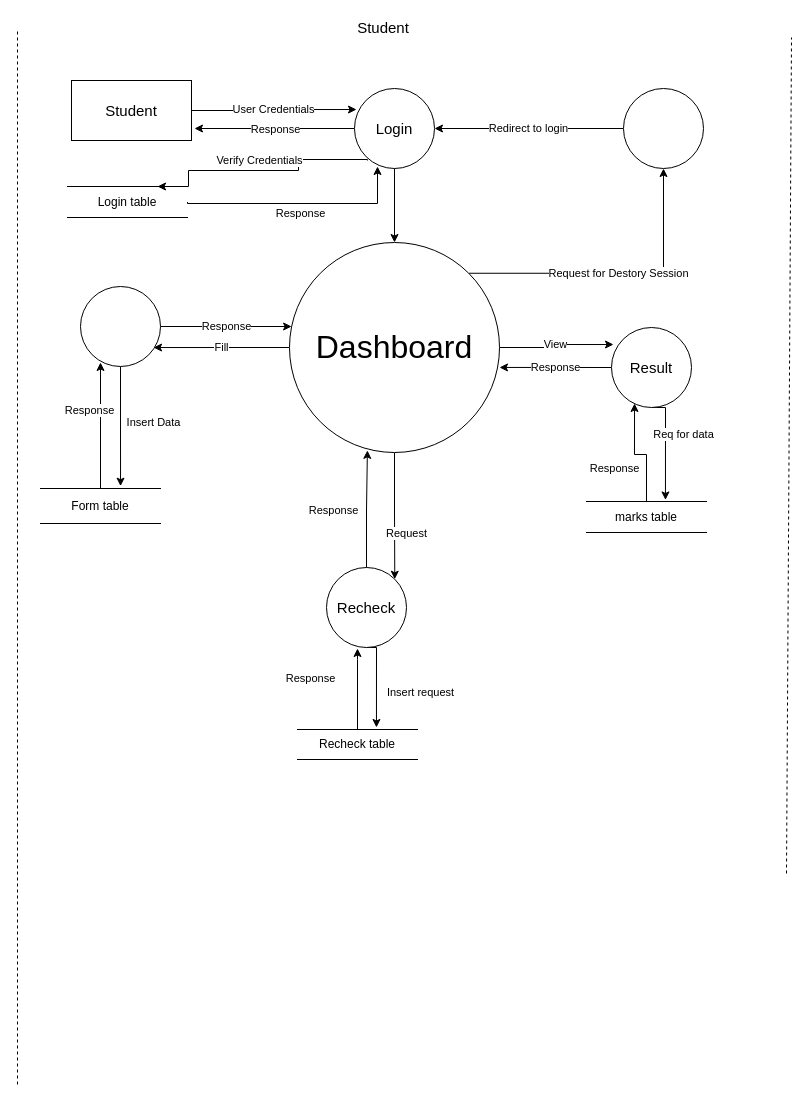
Image size: 810x1103. Some labels were removed from this diagram. Each missing label, with the centre of its shape:
"Exam Form" goes at (x=120, y=326).
"Logout" goes at (x=663, y=128).
